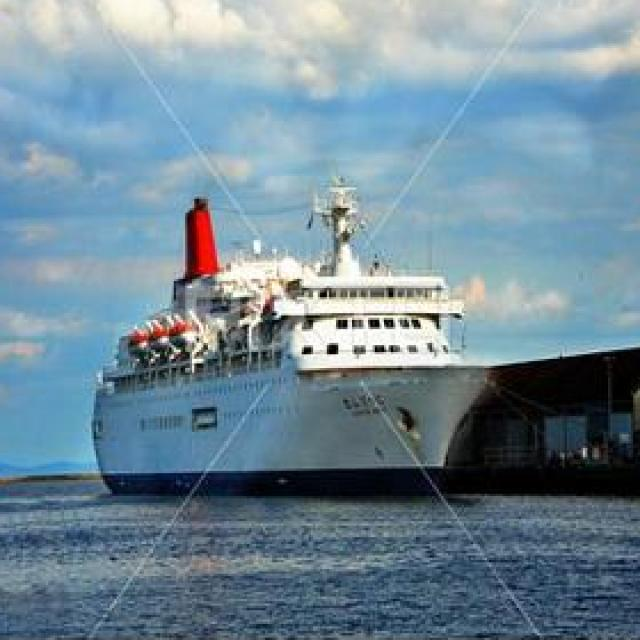cargoship: (87, 231, 476, 498)
